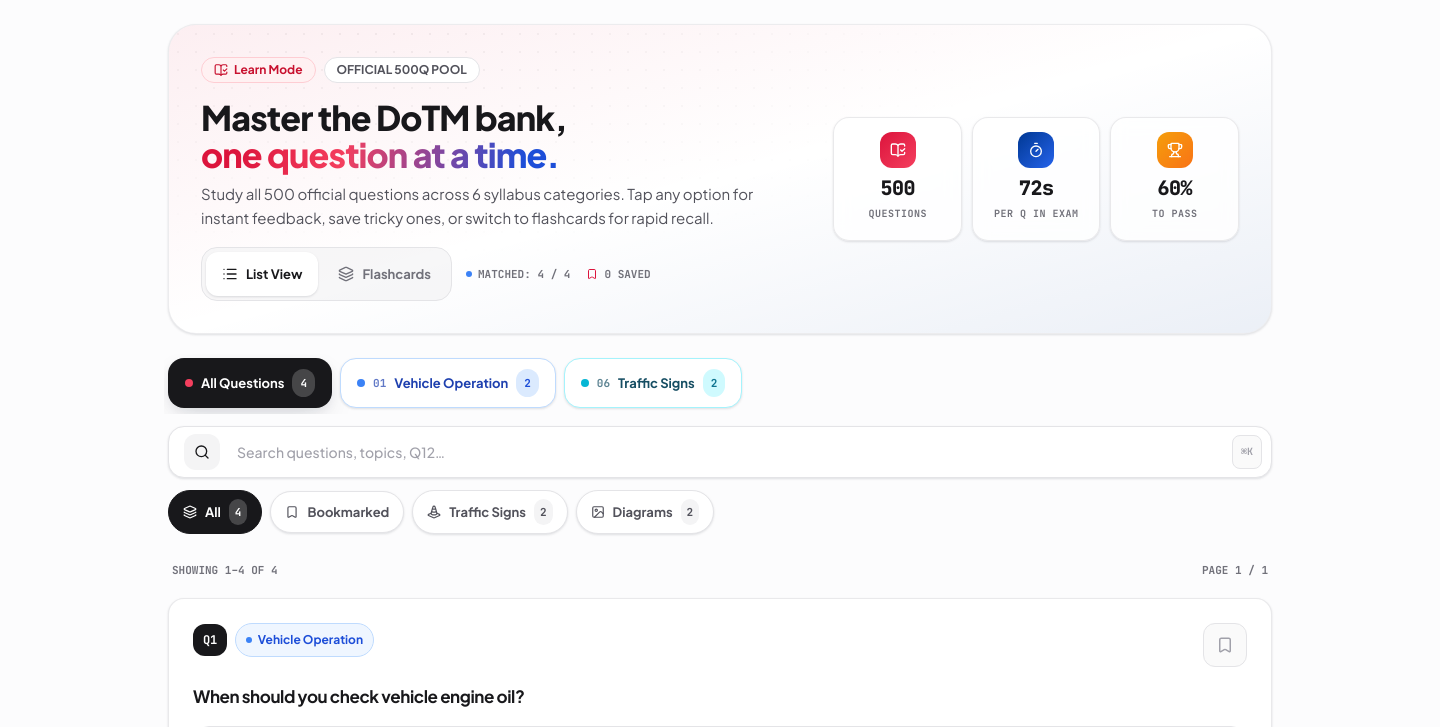
Scenario: LearnView Integration › filters by Traffic Signs Only chip
// Click Traffic Signs chip
Click the button "Traffic Signs 2" at {"x": 490, "y": 512}, box [412,490,568,534]
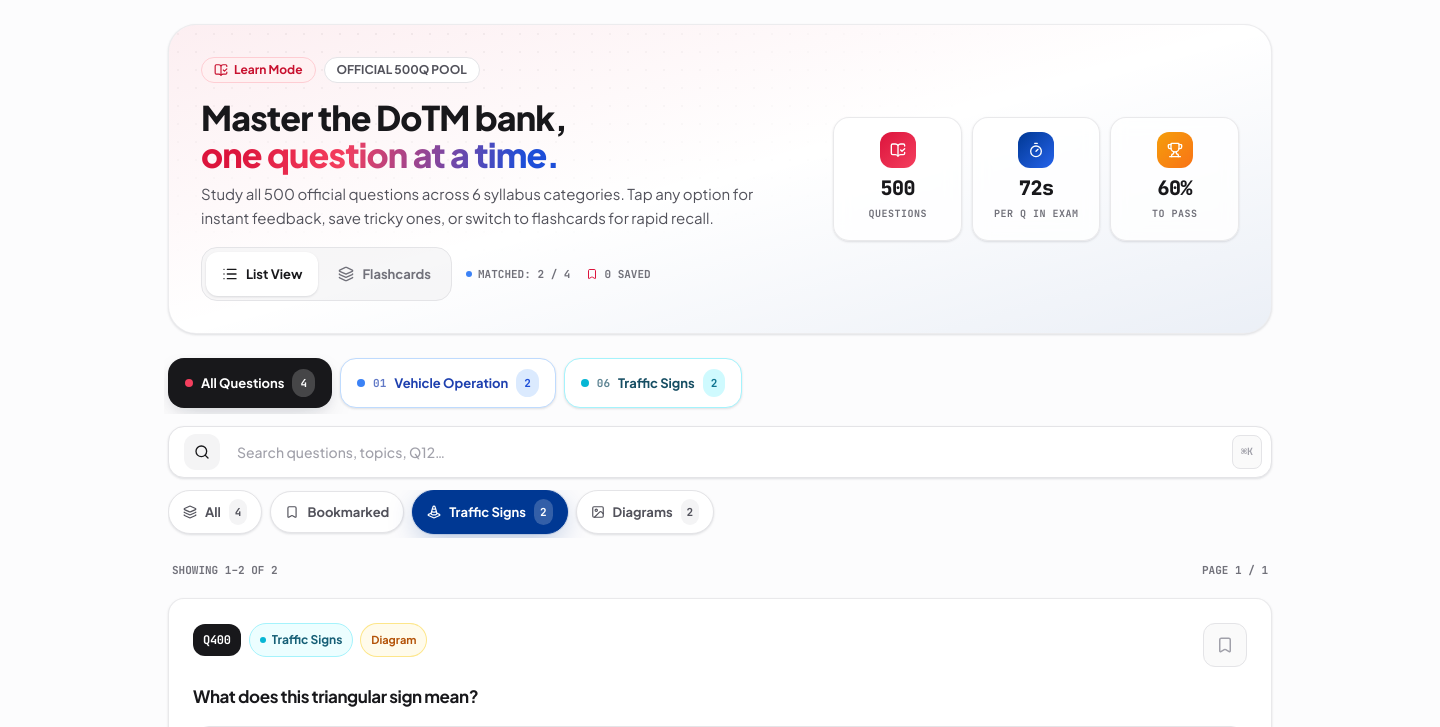
Expected: the heading "What does this triangular sign mean?" is shown, [193,684,478,706]
Now the heading "When should you check vehicle engine oil?" is gone
